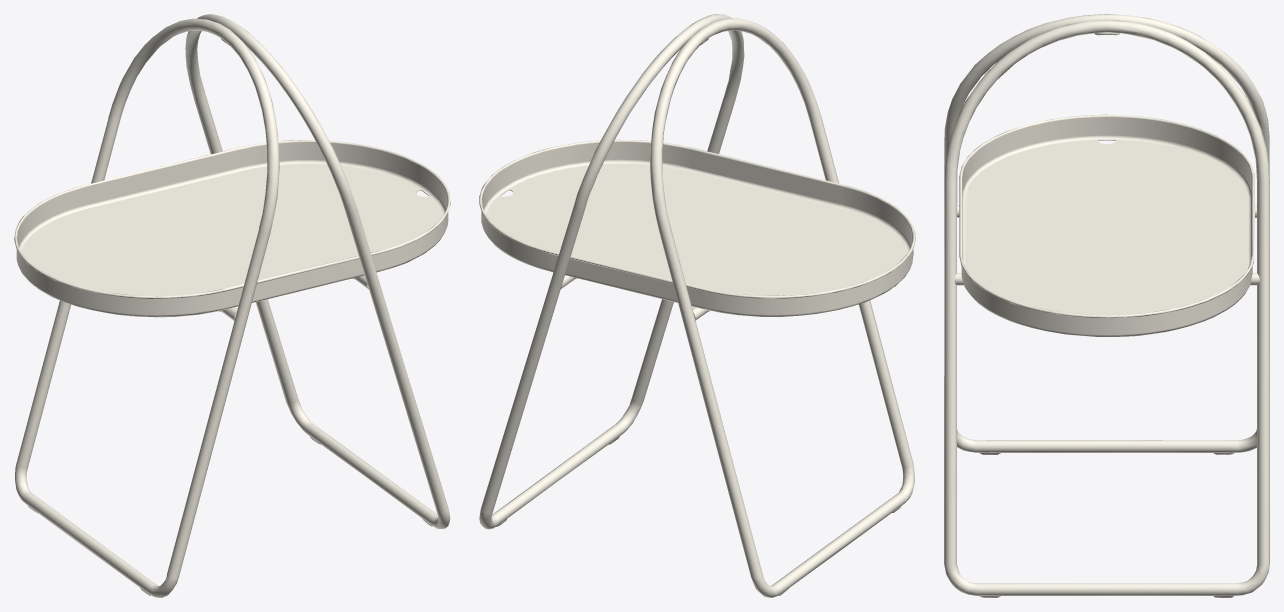
3 views of the same model, side by side, from view 1: azimuth 30°, elevation 25°; view 2: azimuth 150°, elevation 25°; view 3: azimuth 270°, elevation 25° (orthographic). The views are drawn at different scales.
Parts seen in each view (by area): view 1: ASY_ART_30597164_S01_NV01; view 2: ASY_ART_30597164_S01_NV01; view 3: ASY_ART_30597164_S01_NV01.
Part boxes in pixels (box(x1,y1,x2,y2)): ASY_ART_30597164_S01_NV01: box(14, 14, 450, 597); ASY_ART_30597164_S01_NV01: box(479, 14, 915, 597); ASY_ART_30597164_S01_NV01: box(944, 14, 1269, 597).
Bounding box in the file's own units: 0.6074 × 0.7134 × 0.4146.
1 material, 1 textured.
